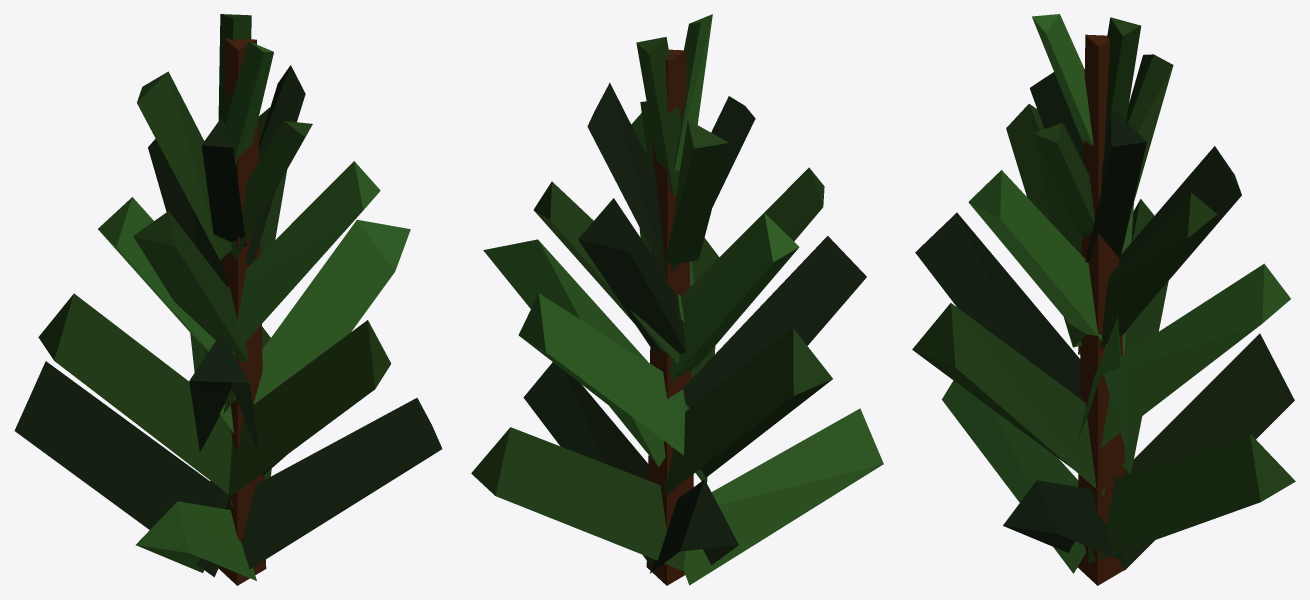
File: Tree3_M1_3_small.fbx
3 views of the same model, side by side, from view 1: azimuth 30°, elevation 25°; view 2: azimuth 150°, elevation 25°; view 3: azimuth 270°, elevation 25° (orthographic). The views are drawn at different scales.
Visible parts, largest first — view 1: Tree3_M1_3_small; view 2: Tree3_M1_3_small; view 3: Tree3_M1_3_small.
Part boxes in pixels (bbox=[...]): Tree3_M1_3_small: bbox=[14, 14, 442, 585]; Tree3_M1_3_small: bbox=[471, 14, 883, 585]; Tree3_M1_3_small: bbox=[912, 14, 1295, 585].
Size of the model in its own units: 129 by 191 by 120.
